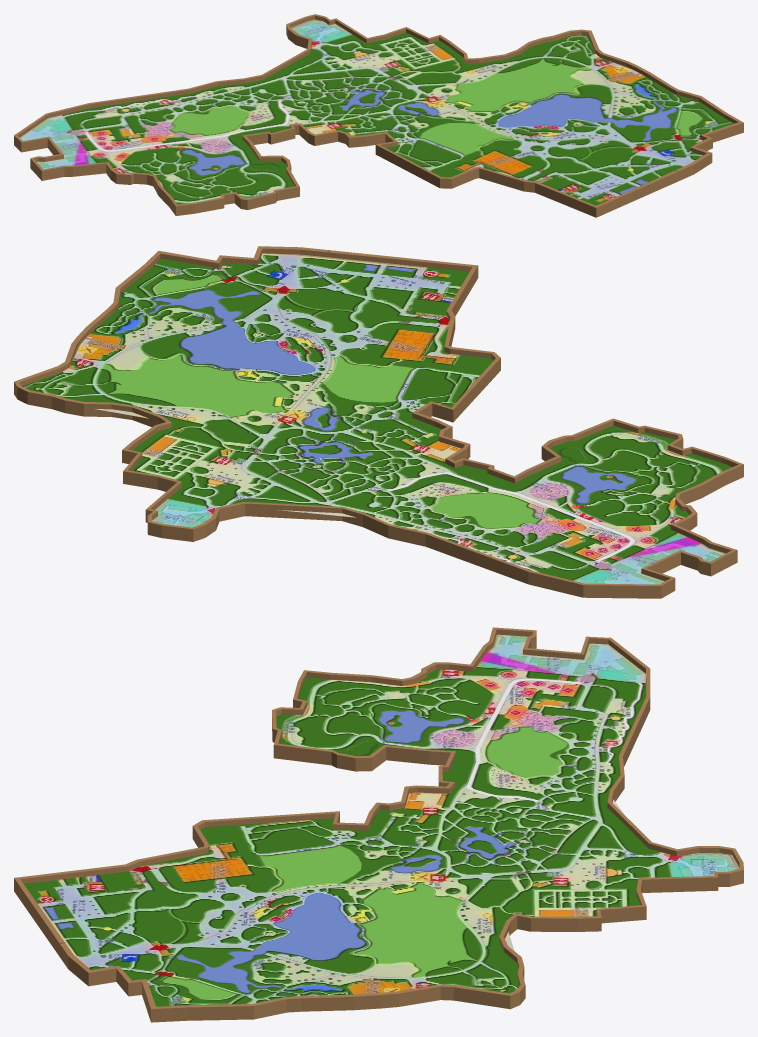
Rendered from zsgy.gltf.
The picture shows the model from 3 angles, top to bottom: view 1: azimuth 30°, elevation 25°; view 2: azimuth 150°, elevation 25°; view 3: azimuth 270°, elevation 25°; orthographic projection. The views are drawn at different scales.
Parts seen in each view (by area): view 1: pCube2 group13, group13 pCube1; view 2: pCube2 group13, group13 pCube1; view 3: pCube2 group13, group13 pCube1.
Part boxes in pixels (x1,y1,x2,y2): pCube2 group13: (20,19,733,205); group13 pCube1: (14,14,743,217); pCube2 group13: (22,253,732,584); group13 pCube1: (14,246,743,598); pCube2 group13: (24,634,739,1006); group13 pCube1: (14,627,743,1022).
Size of the model in its own units: 48.5 by 0.7928 by 39.19.
Materials: 1 (1 with a texture image).
